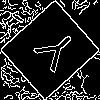Y: (25, 25, 82, 80)
